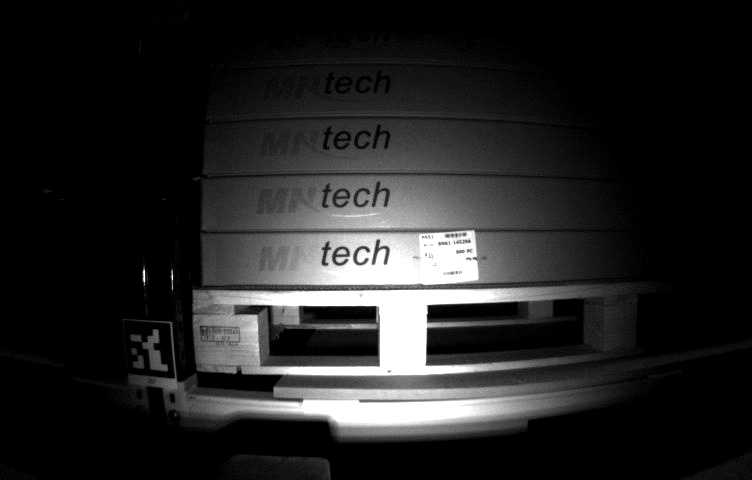True Barcode: (418, 228, 484, 290)
